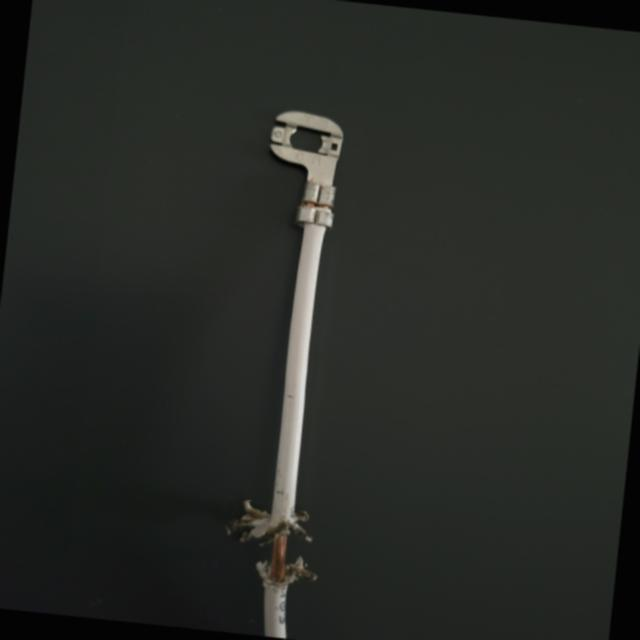defect: (157, 449, 450, 640)
